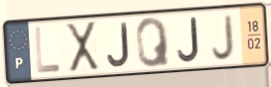J: (105, 21, 132, 69), (210, 13, 236, 62), (175, 16, 201, 65)
L: (33, 24, 63, 76)
Q: (134, 16, 172, 70)
X: (63, 20, 101, 76)
